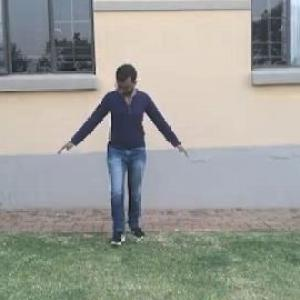land: (56, 40, 204, 262)
